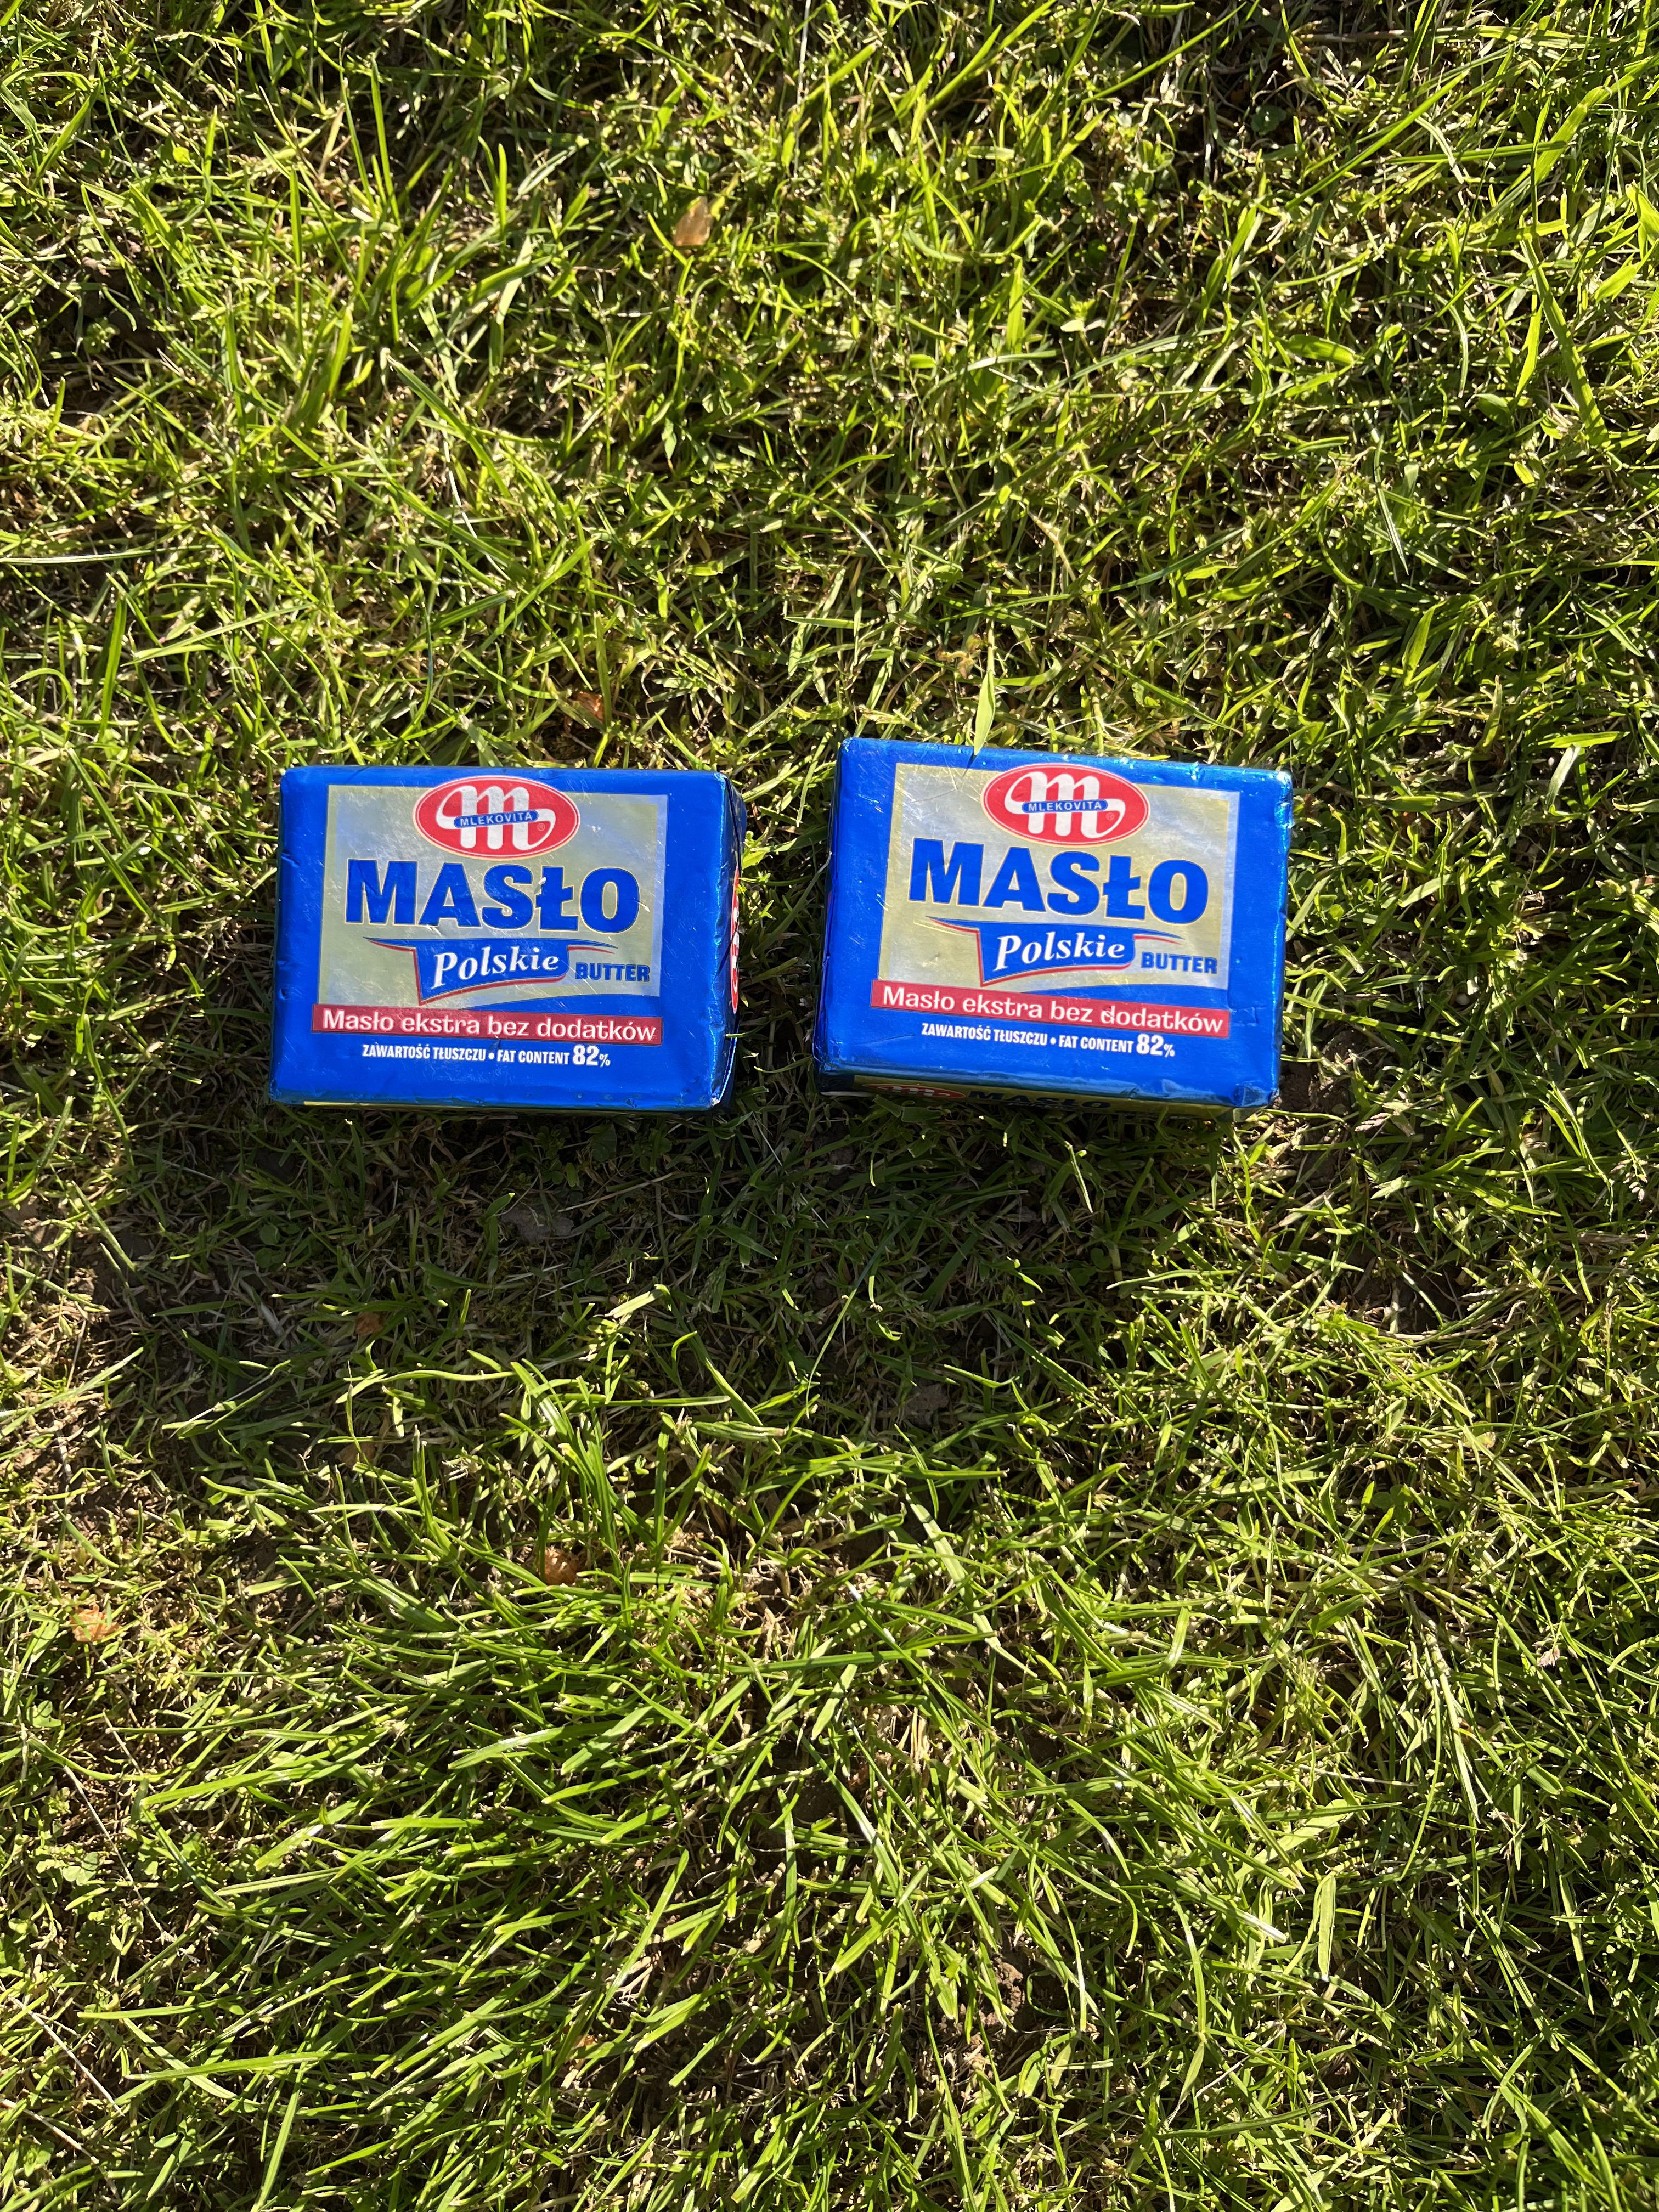Butter: (828, 735, 1283, 1104), (282, 768, 734, 1116)
